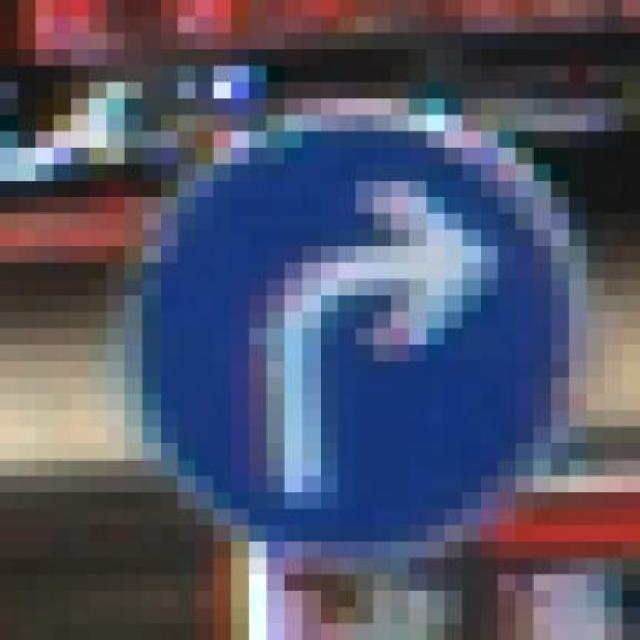Turn right ahead: (124, 99, 587, 558)
